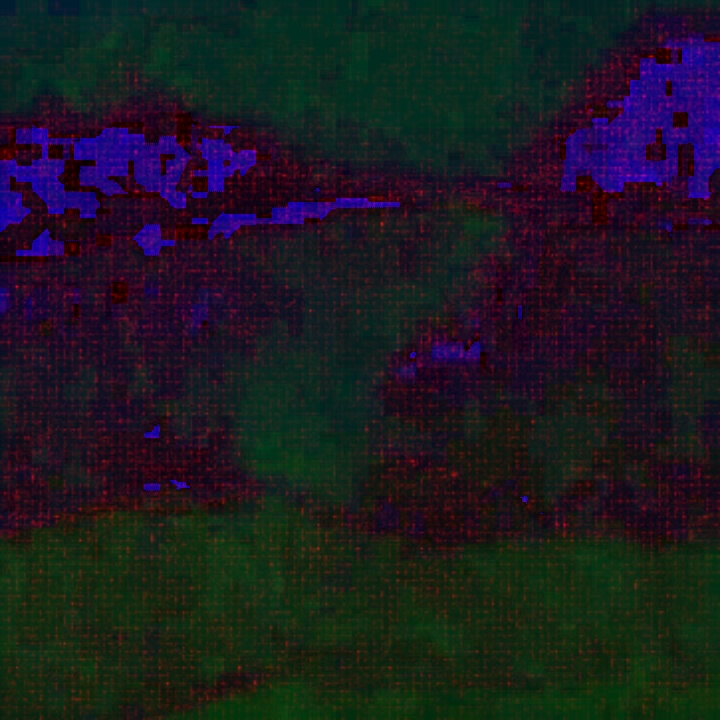rip_current: (164, 117, 532, 558)
